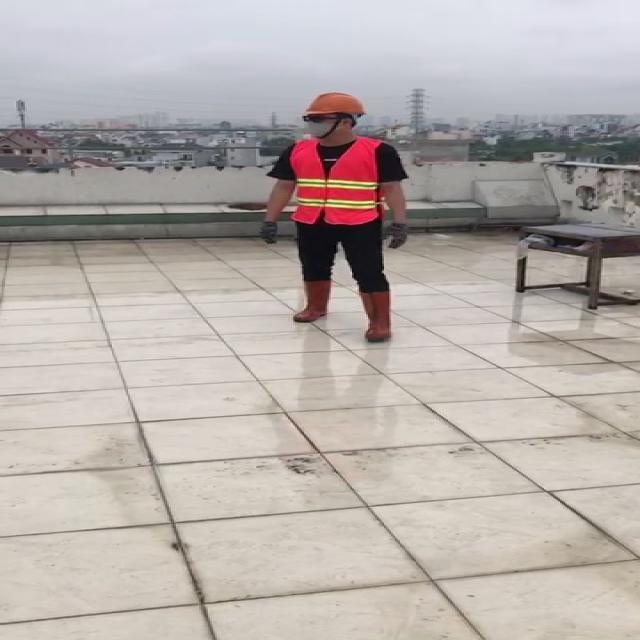boots: (353, 287, 394, 339), (291, 277, 332, 326)
gloves: (387, 222, 408, 249), (258, 221, 277, 243)
hard-hat: (302, 92, 366, 123)
person: (259, 90, 409, 342)
vest: (290, 135, 381, 225)
